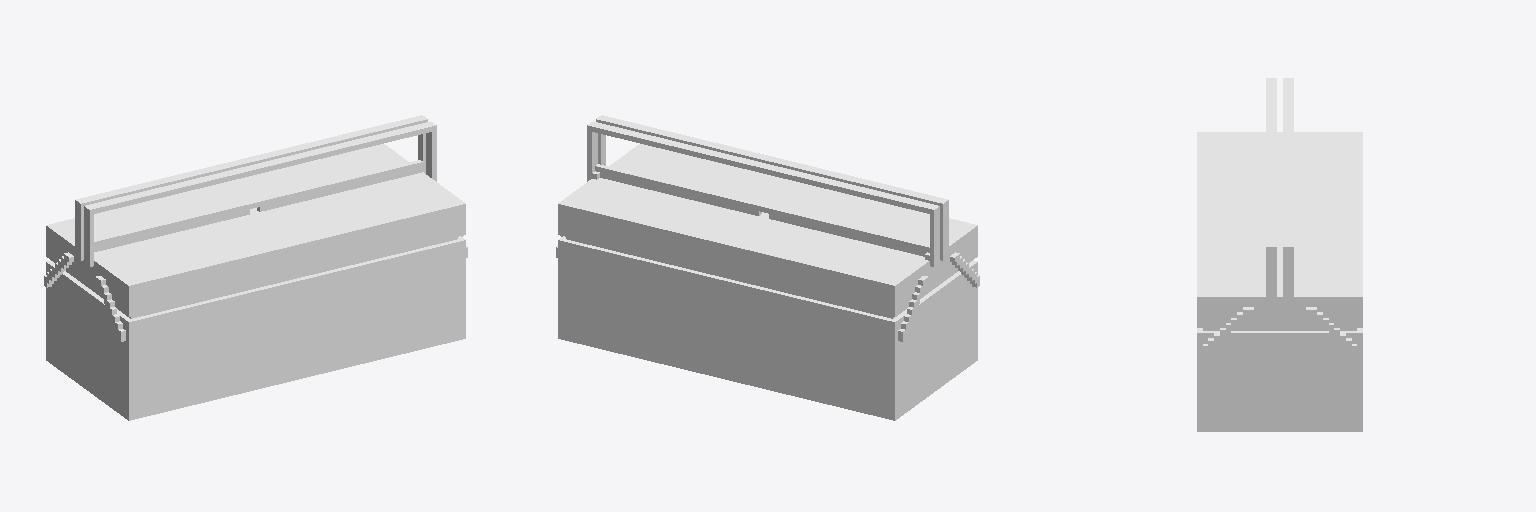
File: ToolBox2.obj
The picture shows the model from 3 angles: view 1: azimuth 30°, elevation 25°; view 2: azimuth 150°, elevation 25°; view 3: azimuth 270°, elevation 25°; orthographic projection.
Visible parts, largest first — view 1: object 1; view 2: object 1; view 3: object 1.
Boxes of the visible parts, box(x1,y1,x2,y2) form: object 1: box(44, 115, 467, 420); object 1: box(556, 115, 979, 420); object 1: box(1197, 78, 1362, 431).
Bounding box in the file's own units: 7 × 3.6 × 2.9.